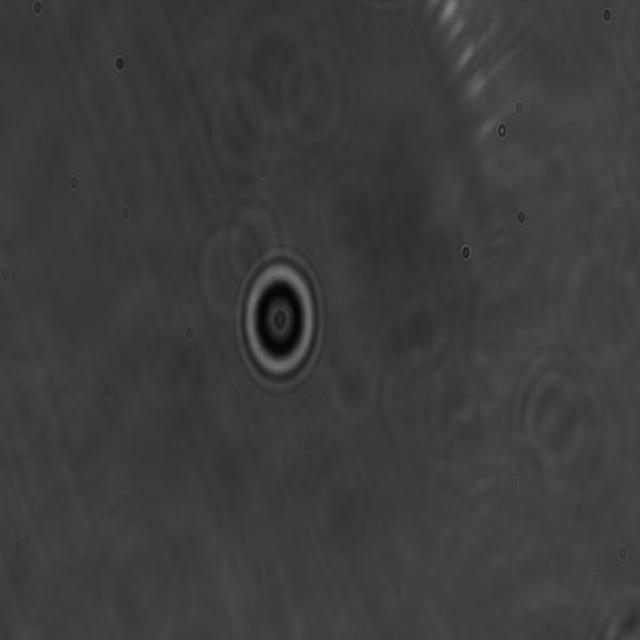LCELL: (235, 247, 327, 395)
